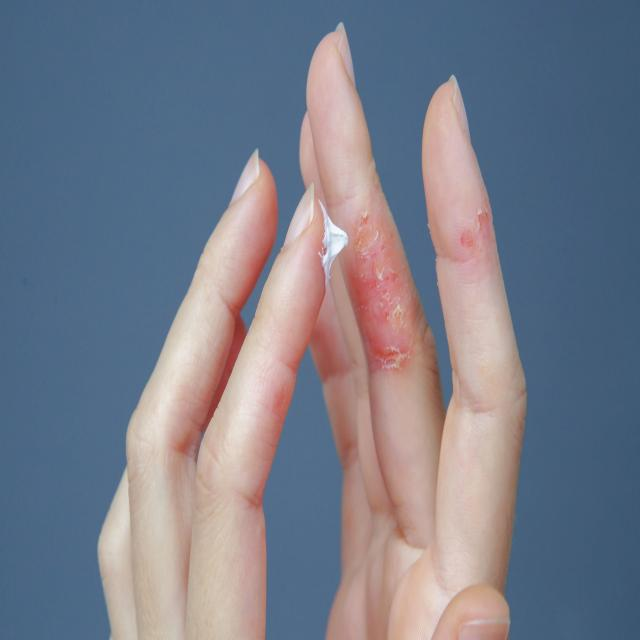eczema: (349, 193, 418, 380), (456, 189, 502, 288)
